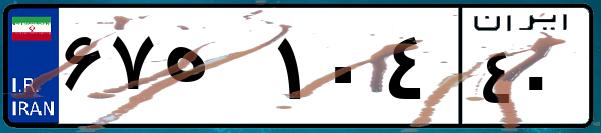0: (330, 28, 385, 110), (525, 38, 570, 115)
1: (270, 28, 330, 110)
4: (385, 28, 445, 110), (475, 38, 525, 113)
6: (57, 26, 110, 100)
7: (110, 28, 158, 98)
ه: (158, 20, 270, 120)
